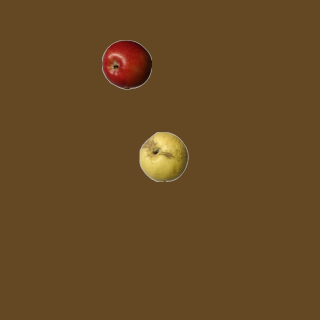Apple Braeburn: (101, 39, 151, 89)
Apple Golden 1: (138, 131, 188, 181)
